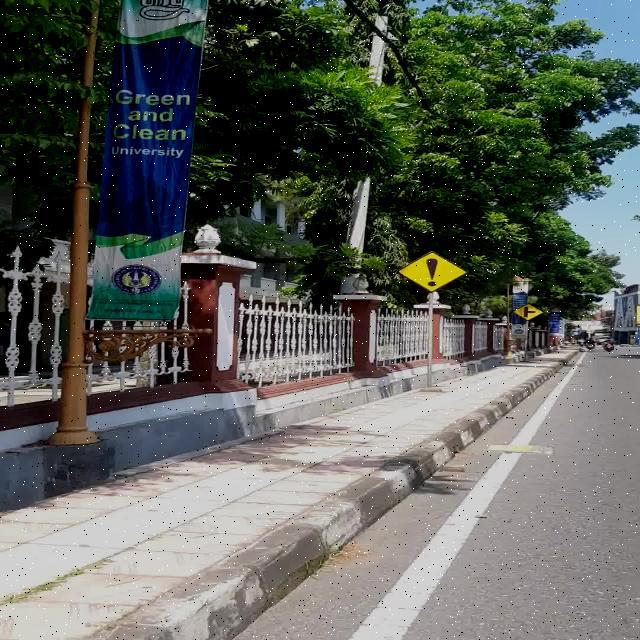Hati-Hati: (398, 251, 468, 292)
